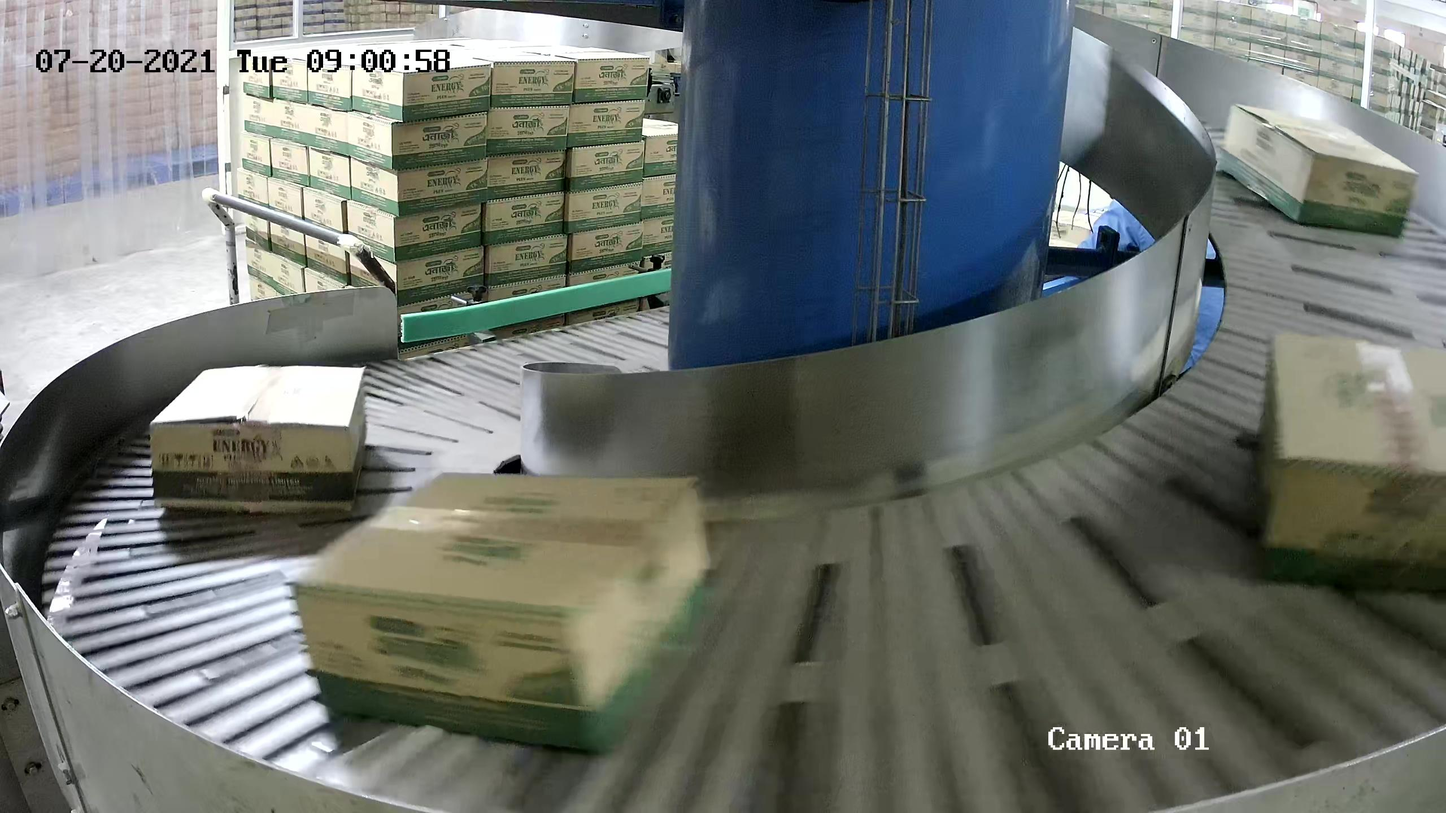Box: (288, 467, 720, 762), (1252, 328, 1446, 589), (146, 362, 369, 517), (1216, 100, 1423, 240)
